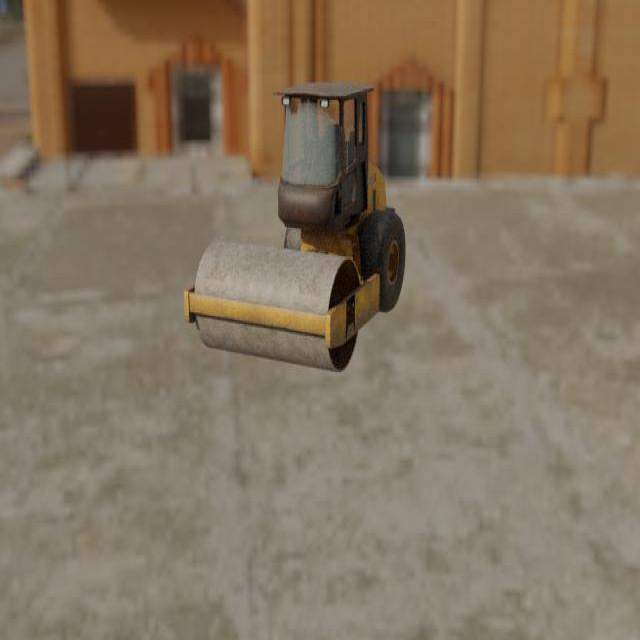Roller: (183, 81, 406, 372)
